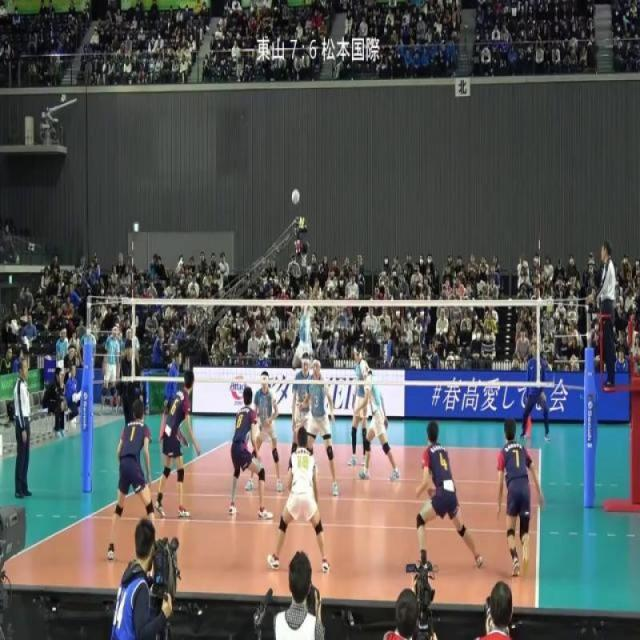volleyball: (291, 188, 300, 205)
